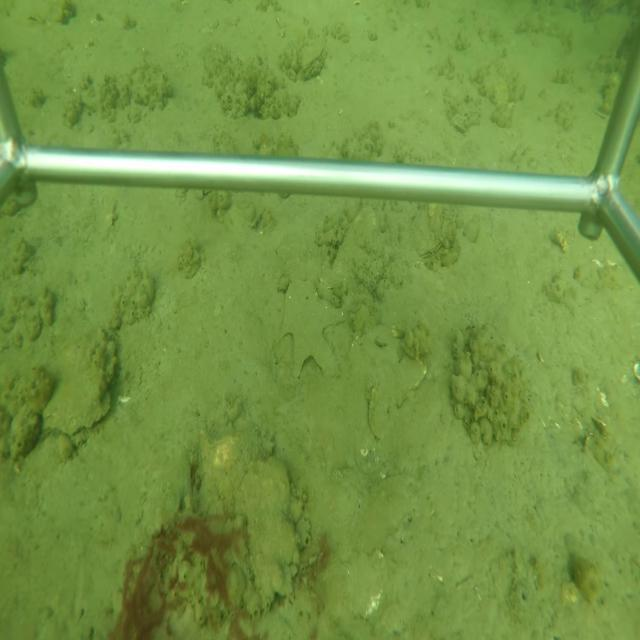Oyster-Closed: (40, 321, 119, 439), (298, 32, 328, 80)
Oyster-Indeterminate: (238, 455, 298, 607)
